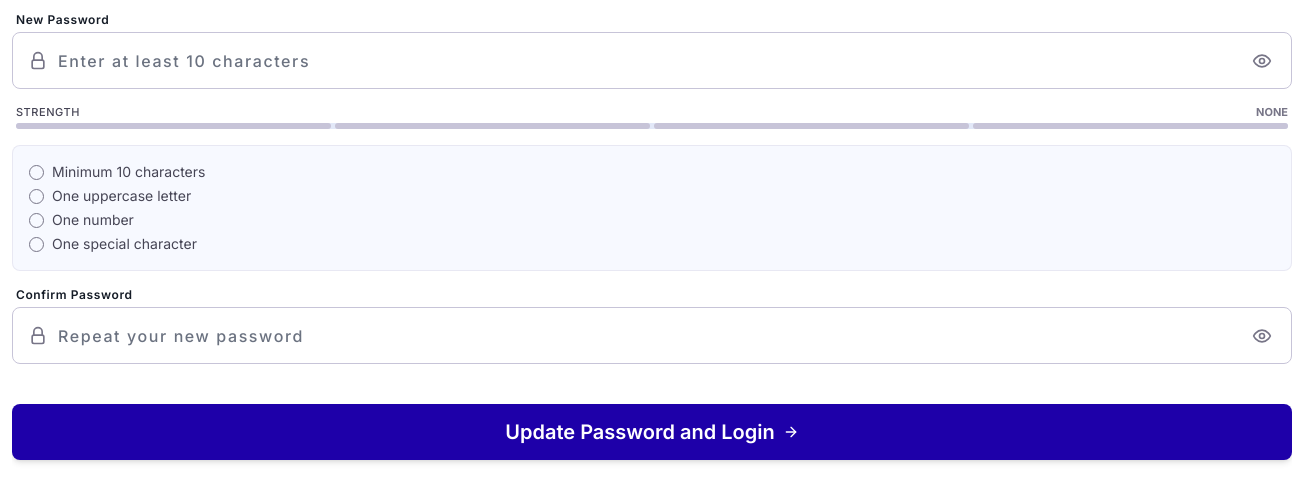
Test: ResetPasswordForm › toggles password visibility without clearing entered values
The width and height of the screenshot is (1304, 481).
Type "StrongPass1!" into the password field labelled "New Password" at (652, 60), box 12,32 -> 1292,89
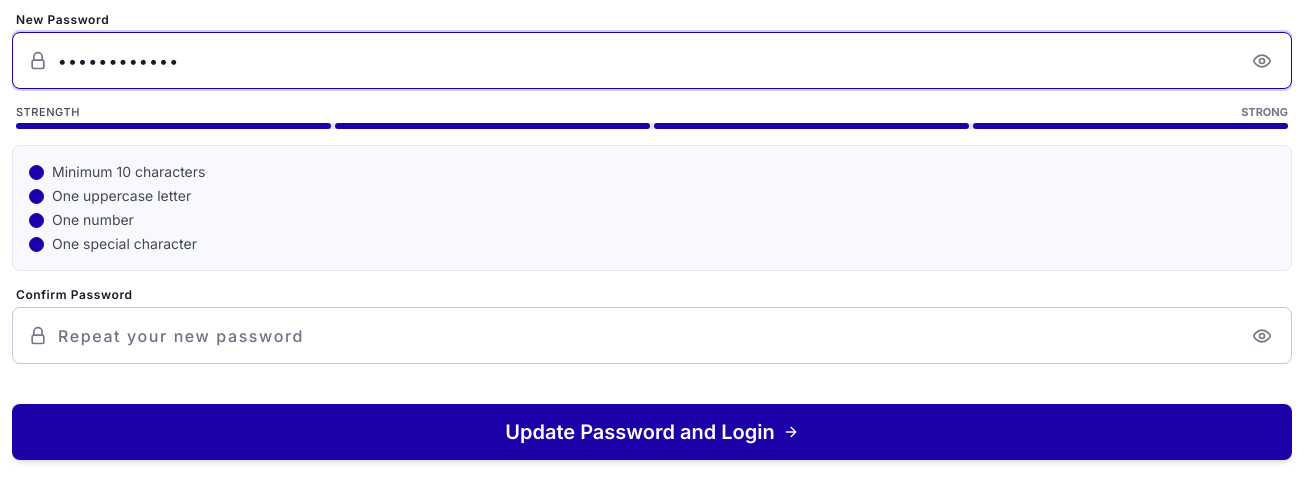
Click the 1st button named "Show password" at (1262, 60), box 1244,42 -> 1280,78
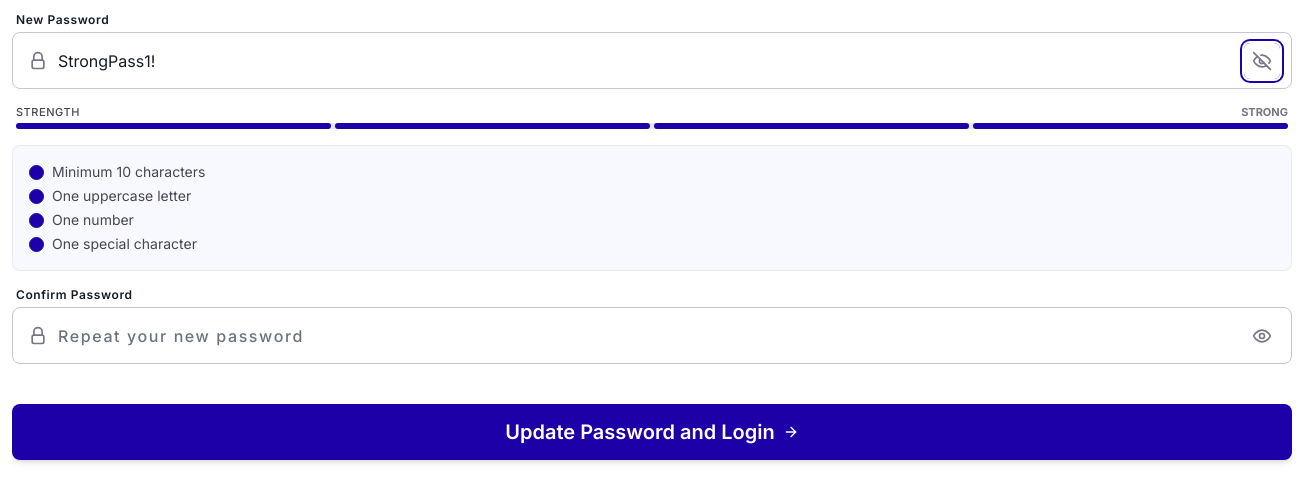
Expected: the field labelled "New Password" shows its text, 12,32 -> 1292,89
